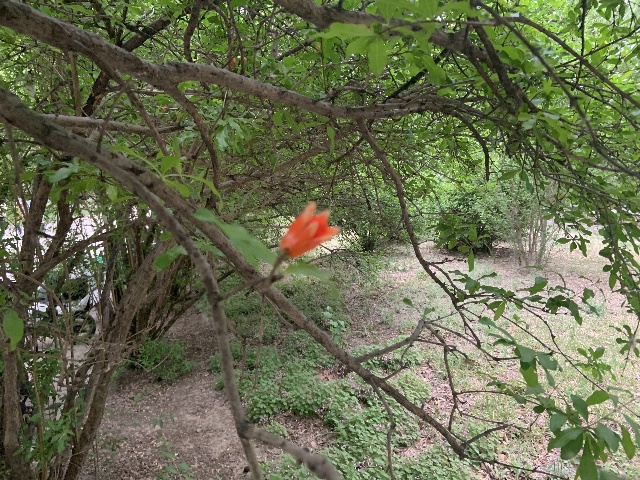flower: (280, 201, 340, 258)
